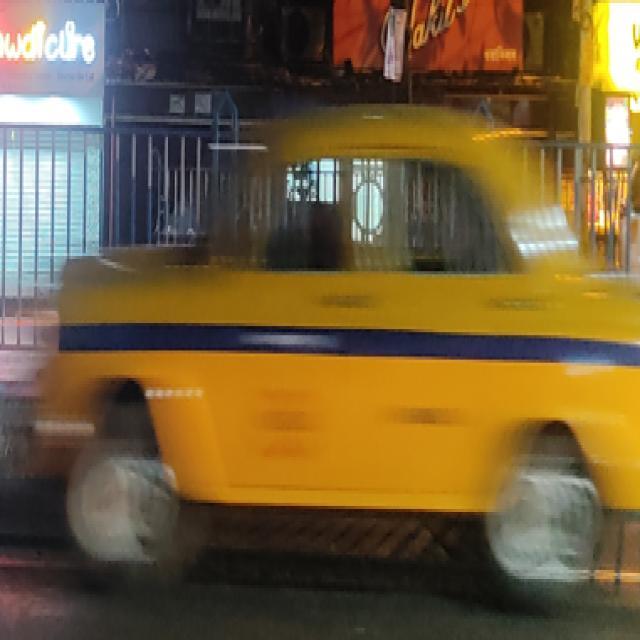ambasador_taxi: (26, 65, 640, 626)
